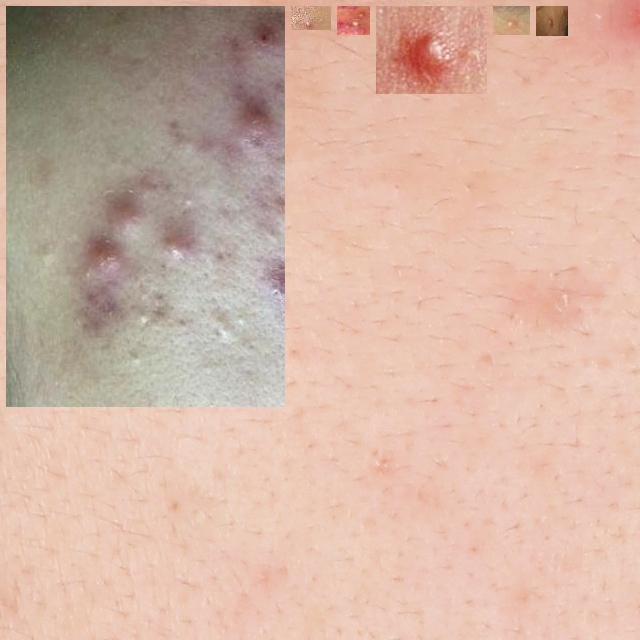pustule: (14, 14, 277, 513), (384, 14, 479, 86), (299, 14, 323, 29), (501, 14, 522, 27), (544, 14, 560, 28), (345, 14, 362, 27)
